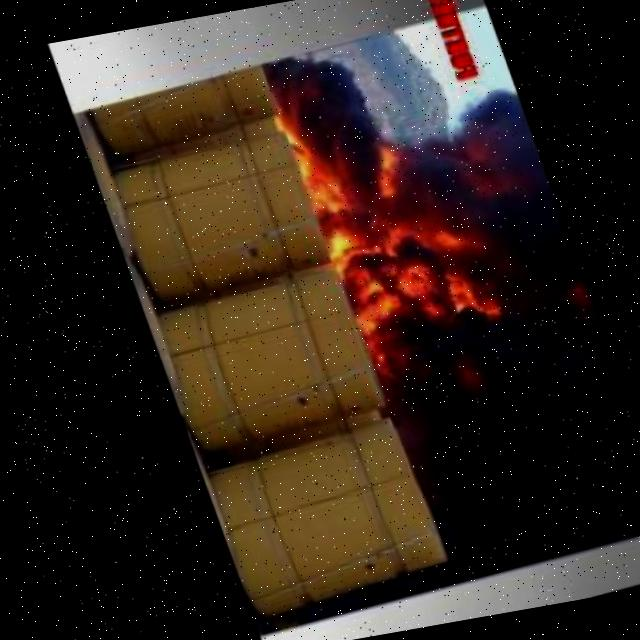fire: (266, 53, 511, 391)
